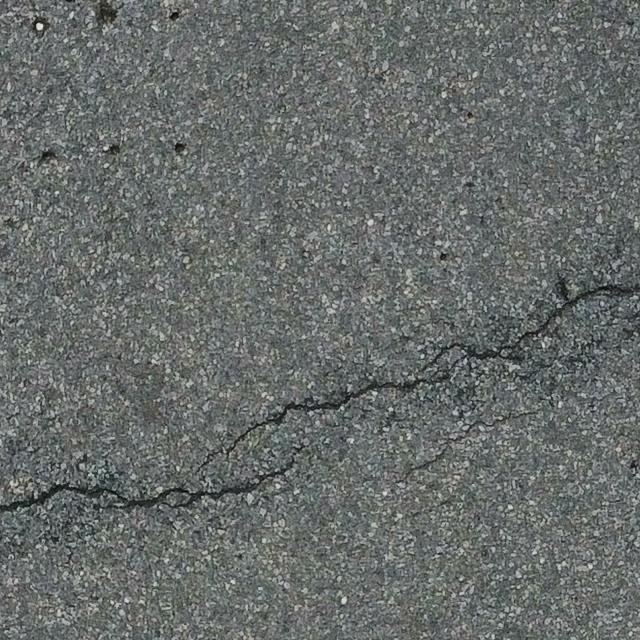TransverseCrack: (2, 286, 640, 514)
